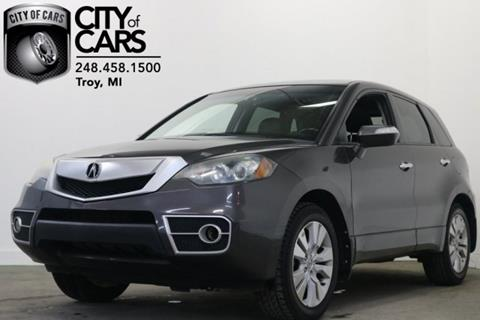Carro: (10, 77, 479, 319)
